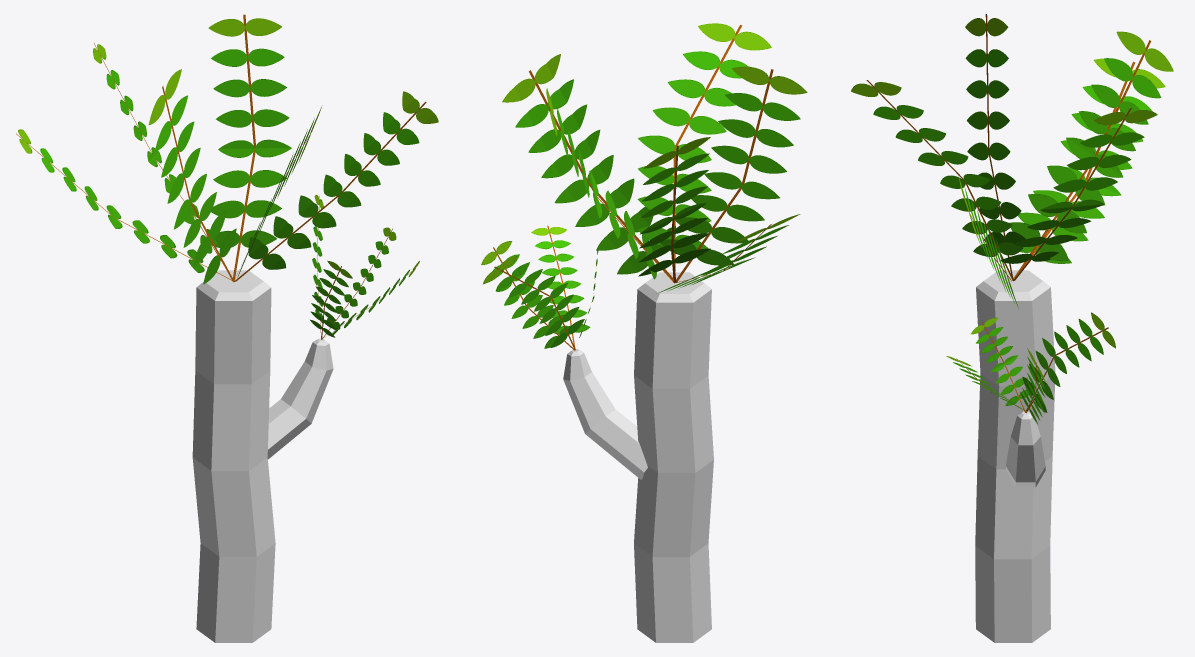
File: Plant2_1.fbx
3 renders of one model, left to right at view 1: azimuth 30°, elevation 25°; view 2: azimuth 150°, elevation 25°; view 3: azimuth 270°, elevation 25°, orthographic.
Visible parts, largest first — view 1: Plant2_1; view 2: Plant2_1; view 3: Plant2_1.
Boxes of the visible parts, left/top/right/bottom form: Plant2_1: left=16, top=14, right=438, bottom=642; Plant2_1: left=481, top=23, right=807, bottom=642; Plant2_1: left=851, top=14, right=1173, bottom=642.
Bounding box in the file's own units: 526 × 795 × 417.
